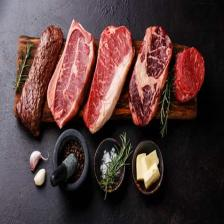meat: (83, 24, 135, 134), (46, 18, 96, 129), (128, 25, 173, 127), (173, 46, 205, 103)
